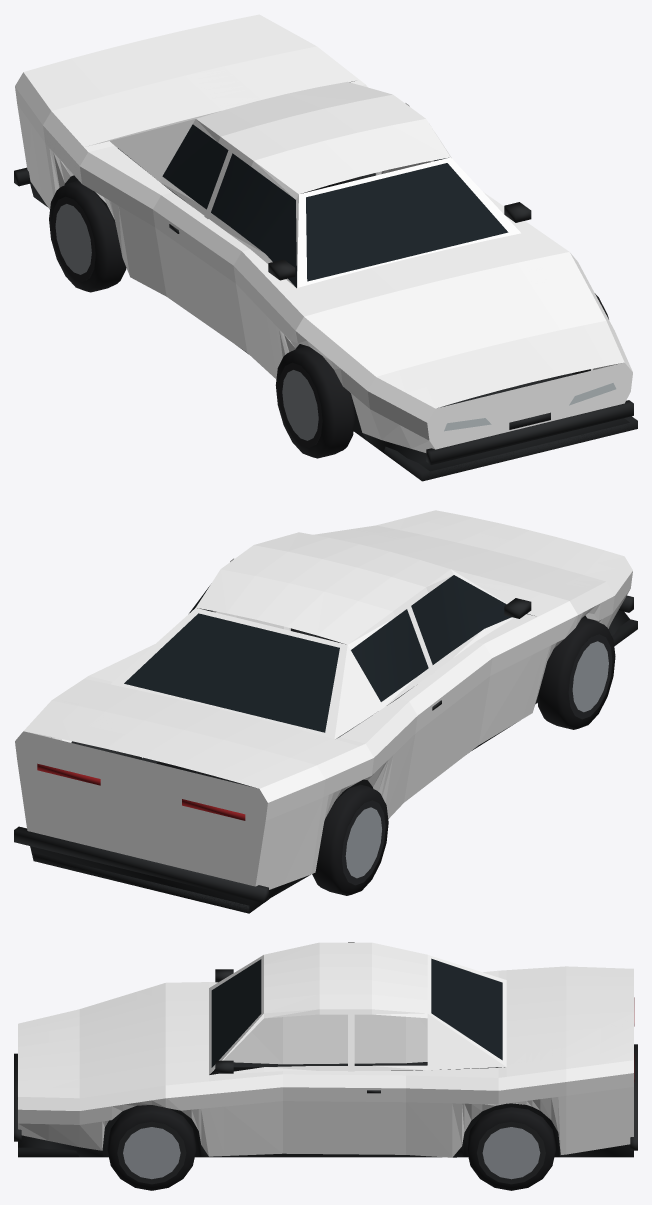
The model's file is hayase_calima.glb.
The picture shows the model from 3 angles, top to bottom: view 1: azimuth 30°, elevation 25°; view 2: azimuth 150°, elevation 25°; view 3: azimuth 270°, elevation 25°; orthographic projection. The views are drawn at different scales.
Visible parts, largest first — view 1: Body_Paint, Body_Details, Mount_FrontLeft_Wheel_Details, Mount_RearLeft_Wheel_Details; view 2: Body_Paint, Body_Details, Mount_FrontLeft_Wheel_Details, Mount_RearLeft_Wheel_Details; view 3: Body_Paint, Body_Details, Mount_FrontRight_Wheel_Details, Mount_RearRight_Wheel_Details.
Part boxes in pixels (box(x1,y1,x2,y2)): Body_Paint: box(15, 14, 632, 452); Body_Details: box(14, 124, 637, 481); Mount_FrontLeft_Wheel_Details: box(275, 346, 354, 458); Mount_RearLeft_Wheel_Details: box(49, 180, 126, 292); Body_Paint: box(15, 510, 632, 889); Body_Details: box(14, 575, 637, 913); Mount_FrontLeft_Wheel_Details: box(537, 617, 615, 729); Mount_RearLeft_Wheel_Details: box(312, 784, 388, 895); Body_Paint: box(18, 942, 633, 1157); Body_Details: box(14, 958, 637, 1157); Mount_FrontRight_Wheel_Details: box(107, 1105, 196, 1190); Mount_RearRight_Wheel_Details: box(467, 1107, 555, 1190).
Bounding box in the file's own units: 1.91 × 1.28 × 4.43.
2 materials, 1 textured.
